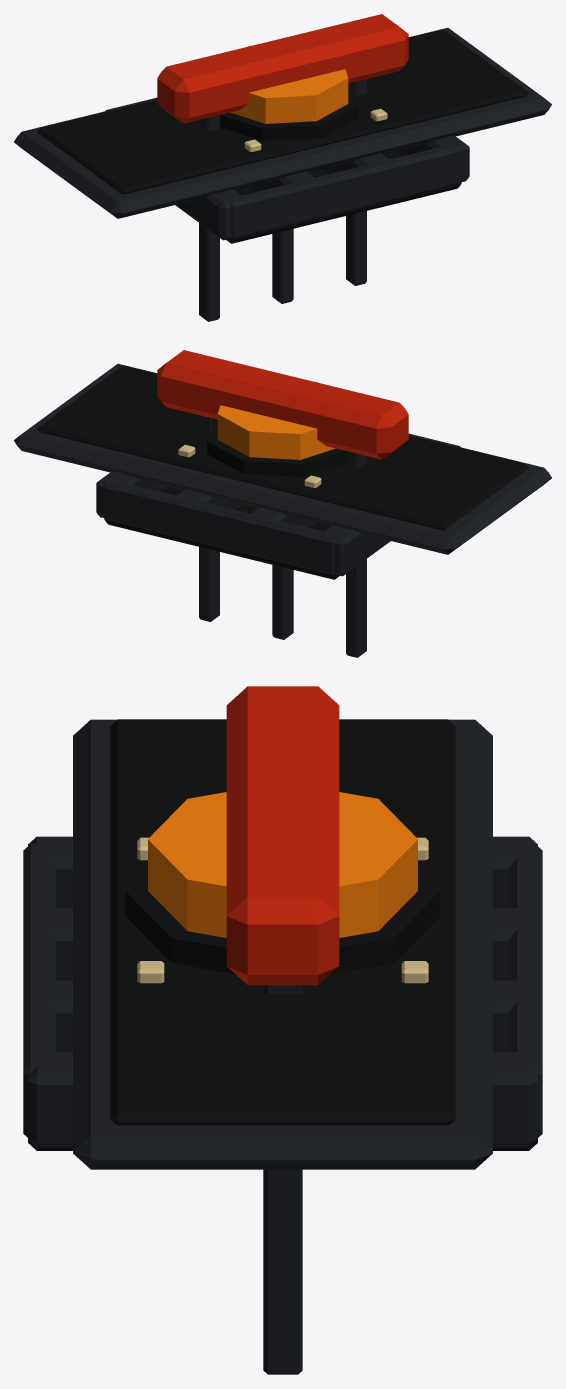
Rendered from Cockpit.fbx.
The picture shows the model from 3 angles, top to bottom: view 1: azimuth 30°, elevation 25°; view 2: azimuth 150°, elevation 25°; view 3: azimuth 270°, elevation 25°; orthographic projection. The views are drawn at different scales.
Visible parts, largest first — view 1: DistanceBase, ThrottleMoving, ThrottleBase, HornCap, HornBase; view 2: DistanceBase, ThrottleMoving, ThrottleBase, HornCap, HornBase; view 3: DistanceBase, ThrottleMoving, ThrottleBase, HornCap, HornBase.
Part boxes in pixels (x1,y1,x2,y2): DistanceBase: (14, 27, 551, 218); ThrottleMoving: (157, 14, 408, 321); ThrottleBase: (105, 97, 469, 243); HornCap: (230, 45, 348, 123); HornBase: (220, 83, 387, 151); DistanceBase: (14, 363, 551, 554); ThrottleMoving: (157, 350, 408, 657); ThrottleBase: (96, 433, 460, 579); HornCap: (217, 381, 335, 459); HornBase: (178, 419, 345, 487); DistanceBase: (73, 719, 492, 1169); ThrottleMoving: (226, 686, 339, 1374); ThrottleBase: (23, 836, 542, 1150); HornCap: (148, 792, 417, 937); HornBase: (125, 837, 440, 983).
Size of the model in its own units: 68 by 37.25 by 34.6.
Materials: 1 (1 with a texture image).
